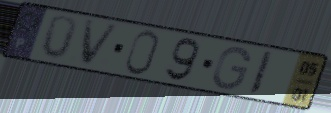0: (38, 14, 80, 62), (123, 28, 161, 78)
9: (163, 37, 204, 83)
G: (209, 46, 253, 92)
I: (245, 49, 276, 99)
V: (79, 18, 124, 68)
